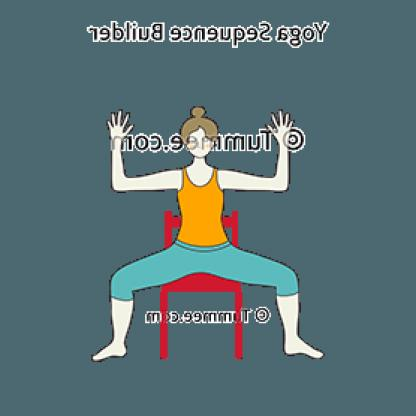godness: (83, 100, 329, 372)
